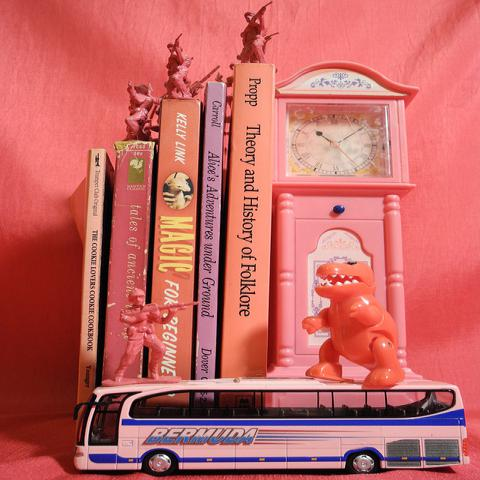bus: (78, 372, 468, 475)
